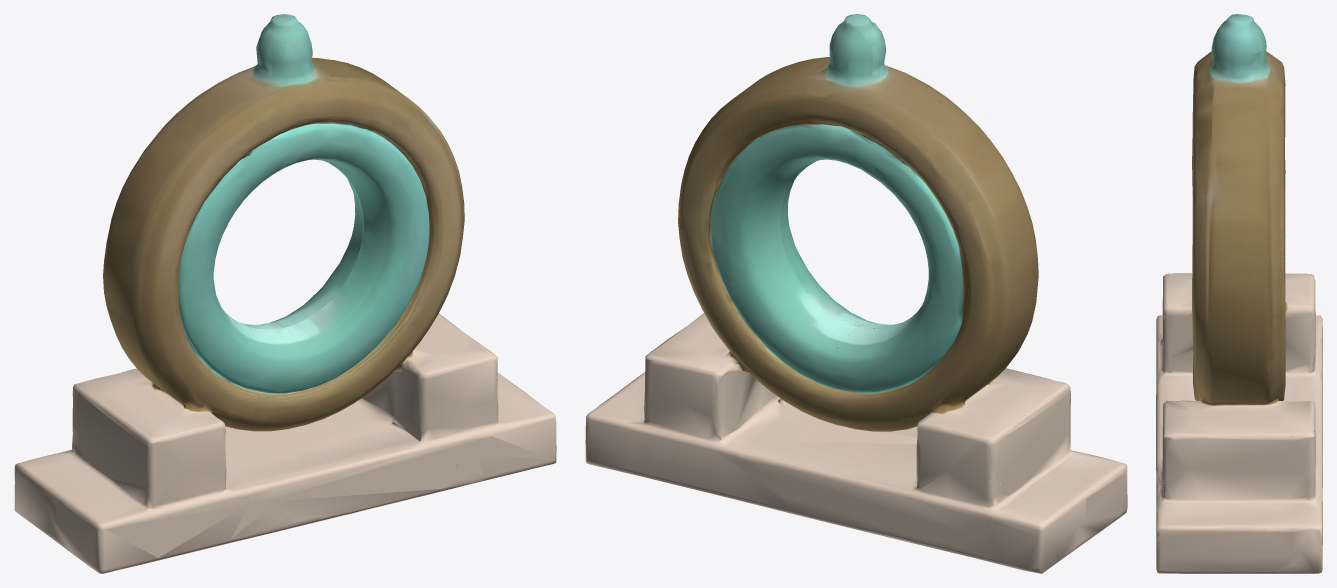
File: portal.glb
3 views of the same model, side by side, from view 1: azimuth 30°, elevation 25°; view 2: azimuth 150°, elevation 25°; view 3: azimuth 270°, elevation 25° (orthographic). The views are drawn at different scales.
Parts seen in each view (by area): view 1: model.016; view 2: model.016; view 3: model.016.
Part boxes in pixels (x1=…): model.016: x1=14, y1=14, x2=556, y2=573; model.016: x1=585, y1=14, x2=1127, y2=573; model.016: x1=1156, y1=14, x2=1322, y2=573.
Size of the model in its own units: 1.9 by 1.86 by 0.6246.
1 material, 1 textured.
